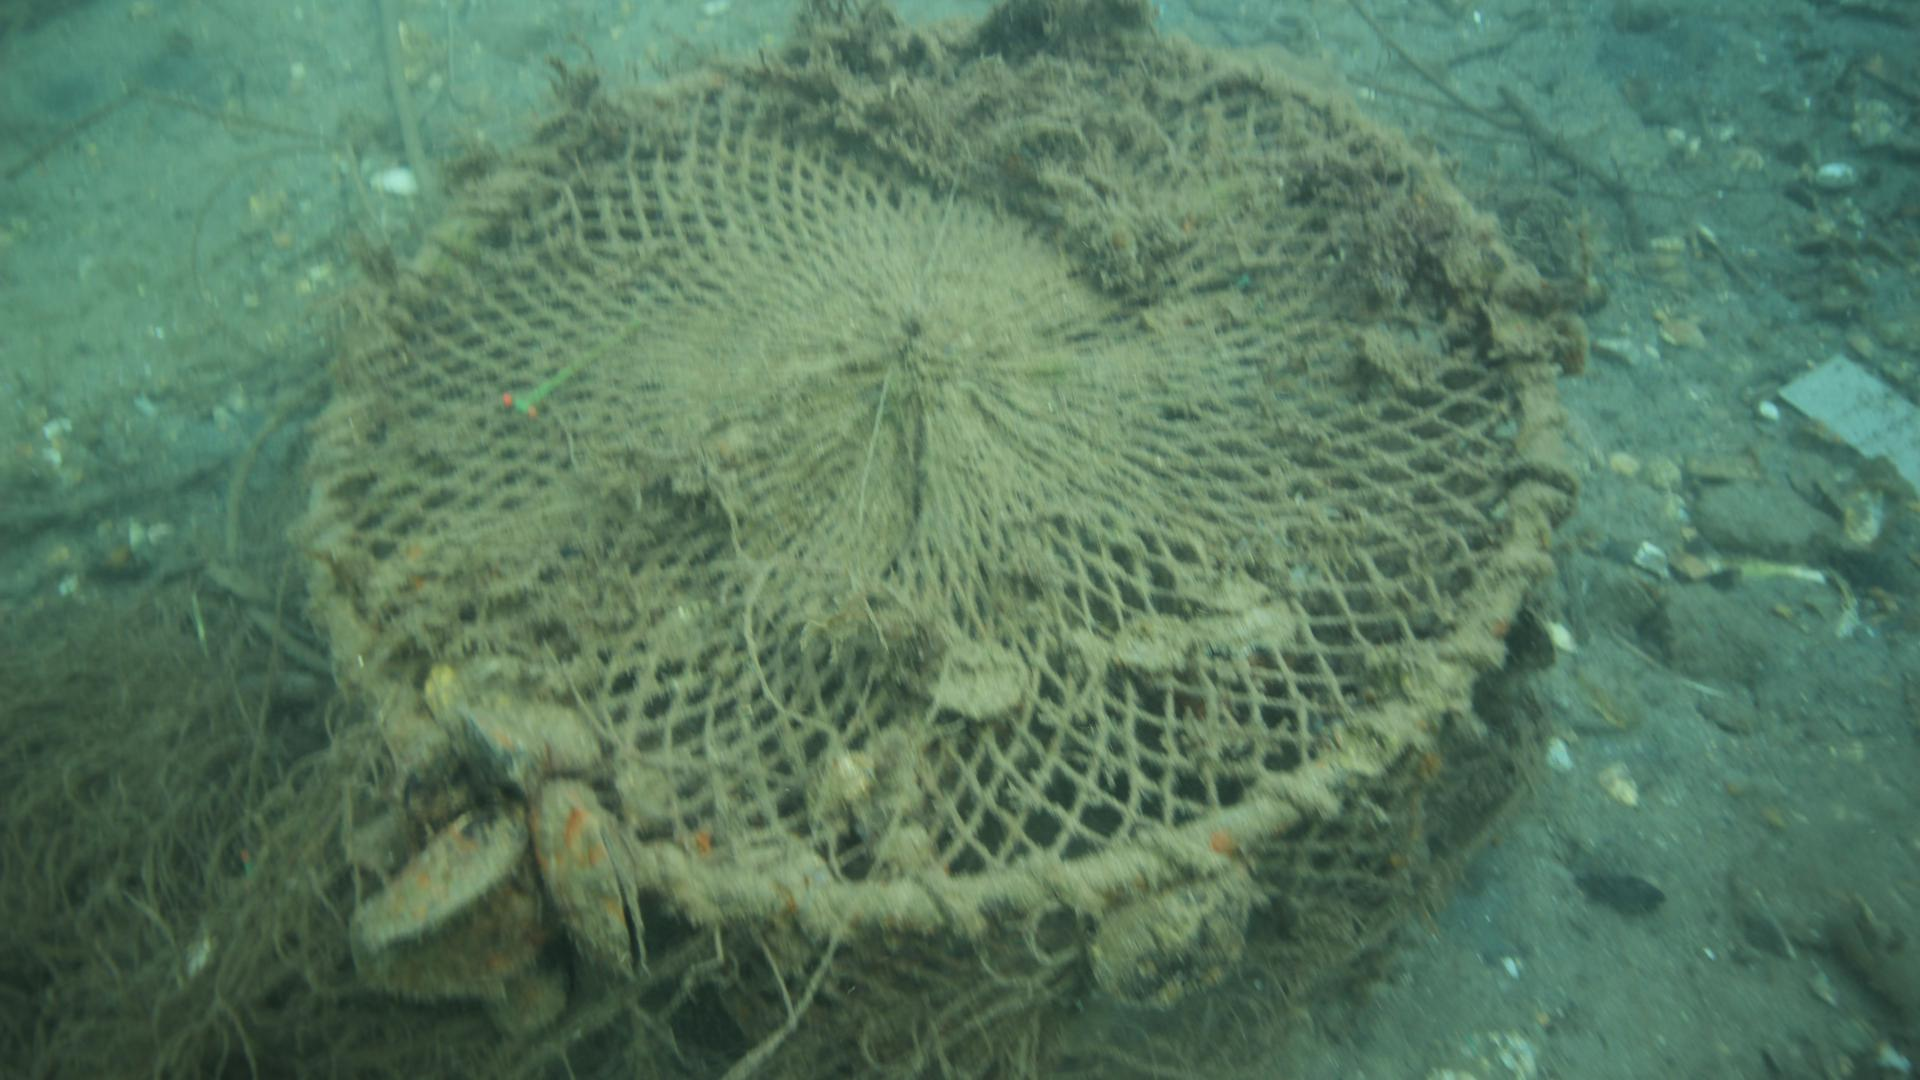circular fish trap: (293, 18, 1576, 1076)
